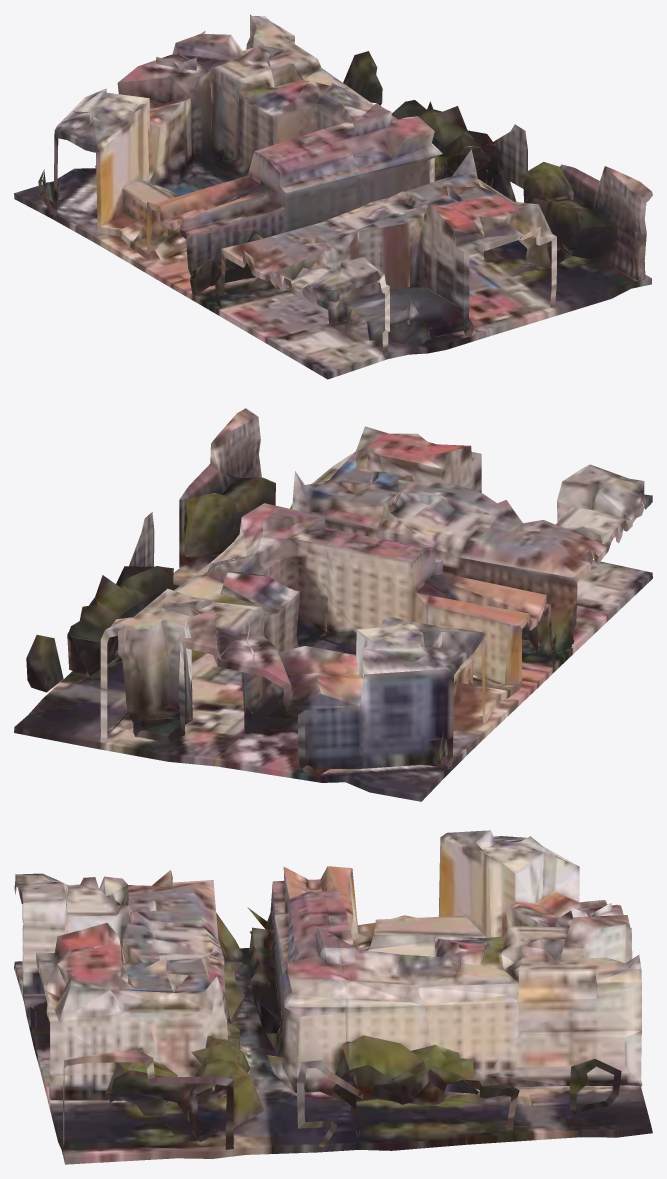
3 renders of one model, top to bottom at view 1: azimuth 30°, elevation 25°; view 2: azimuth 150°, elevation 25°; view 3: azimuth 270°, elevation 25°, orthographic. The views are drawn at different scales.
Parts seen in each view (by area): view 1: Mesh_0; view 2: Mesh_0; view 3: Mesh_0.
Part boxes in pixels (box(x1,y1,x2,y2)): Mesh_0: box(14, 14, 652, 379); Mesh_0: box(14, 408, 652, 801); Mesh_0: box(14, 830, 652, 1164).
Bounding box in the file's own units: 134 × 40.14 × 165.
Materials: 1 (1 with a texture image).
